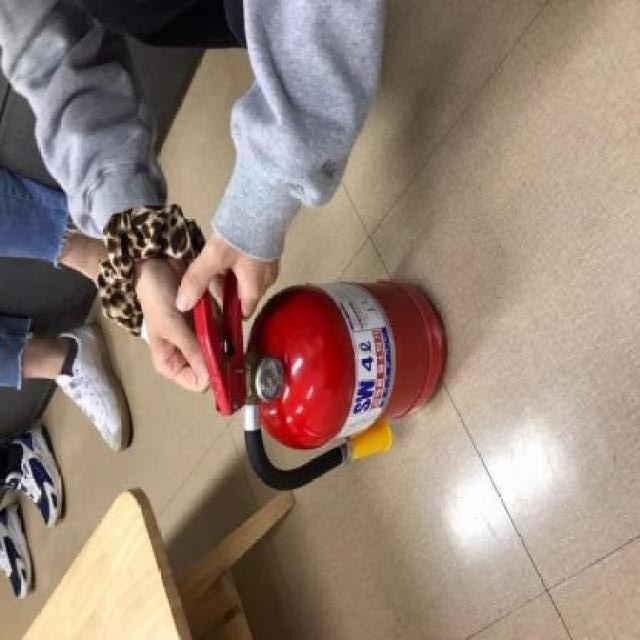fire extinguisher: (191, 266, 447, 491)
